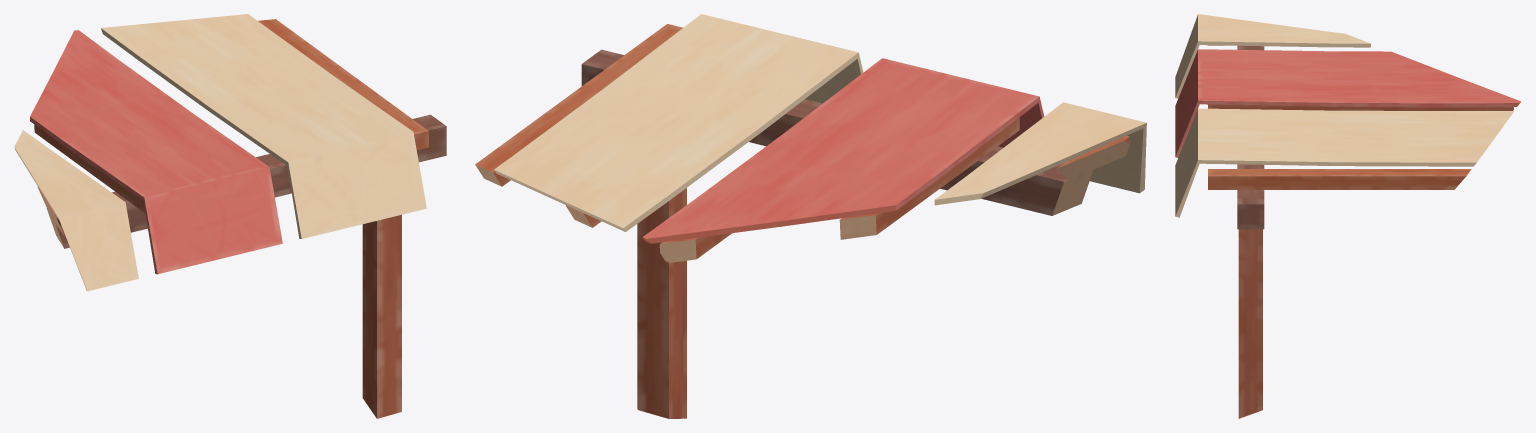
Rendered from pergola_s00.fbx.
3 views of the same model, side by side, from view 1: azimuth 30°, elevation 25°; view 2: azimuth 150°, elevation 25°; view 3: azimuth 270°, elevation 25° (orthographic). The views are drawn at different scales.
Visible parts, largest first — view 1: pergola_s00; view 2: pergola_s00; view 3: pergola_s00.
Boxes of the visible parts, <box> form: pergola_s00: <box>14,14,446,418</box>; pergola_s00: <box>475,14,1146,418</box>; pergola_s00: <box>1175,14,1521,418</box>.
Bounding box in the file's own units: 6.56 × 4.6 × 5.67.
